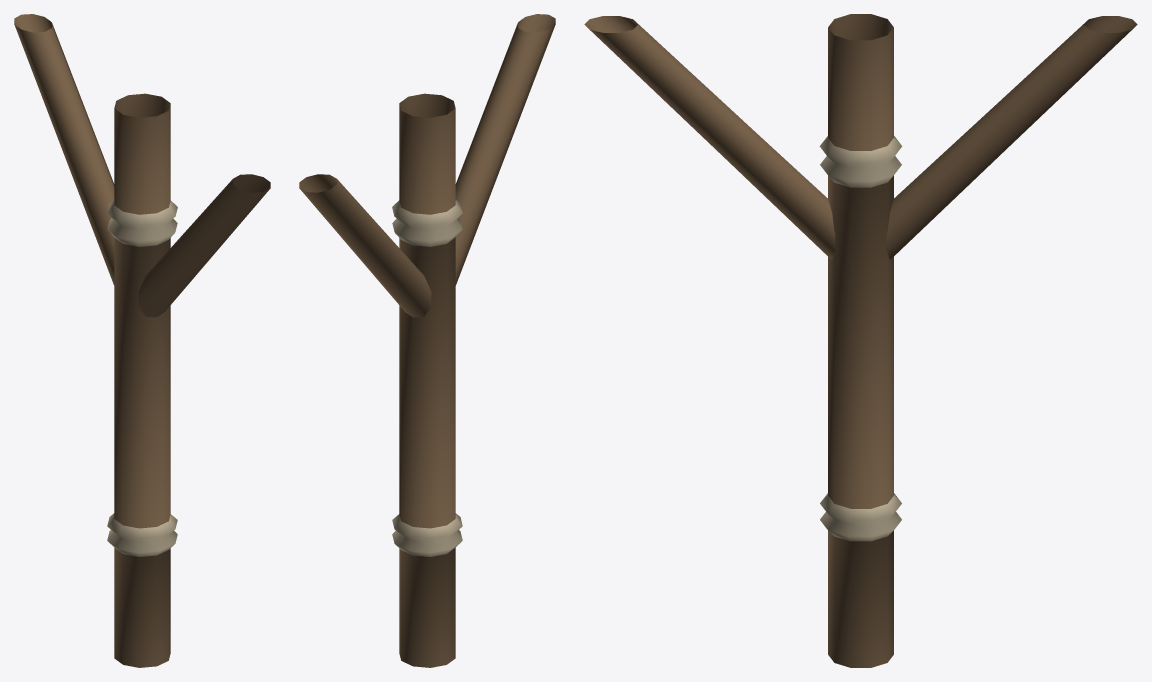
Rendered from rpgpp_ag_support_beam_int_01c_4m.fbx.
3 views of the same model, side by side, from view 1: azimuth 30°, elevation 25°; view 2: azimuth 150°, elevation 25°; view 3: azimuth 270°, elevation 25° (orthographic). The views are drawn at different scales.
Visible parts, largest first — view 1: rpgpp_ag_support_beam_int_01c_4m; view 2: rpgpp_ag_support_beam_int_01c_4m; view 3: rpgpp_ag_support_beam_int_01c_4m.
Part boxes in pixels (x1,y1,x2,y2): rpgpp_ag_support_beam_int_01c_4m: [14, 14, 270, 667]; rpgpp_ag_support_beam_int_01c_4m: [299, 14, 555, 667]; rpgpp_ag_support_beam_int_01c_4m: [584, 14, 1137, 667].
Bounding box in the file's own units: 0.4431 × 3.92 × 3.12.
